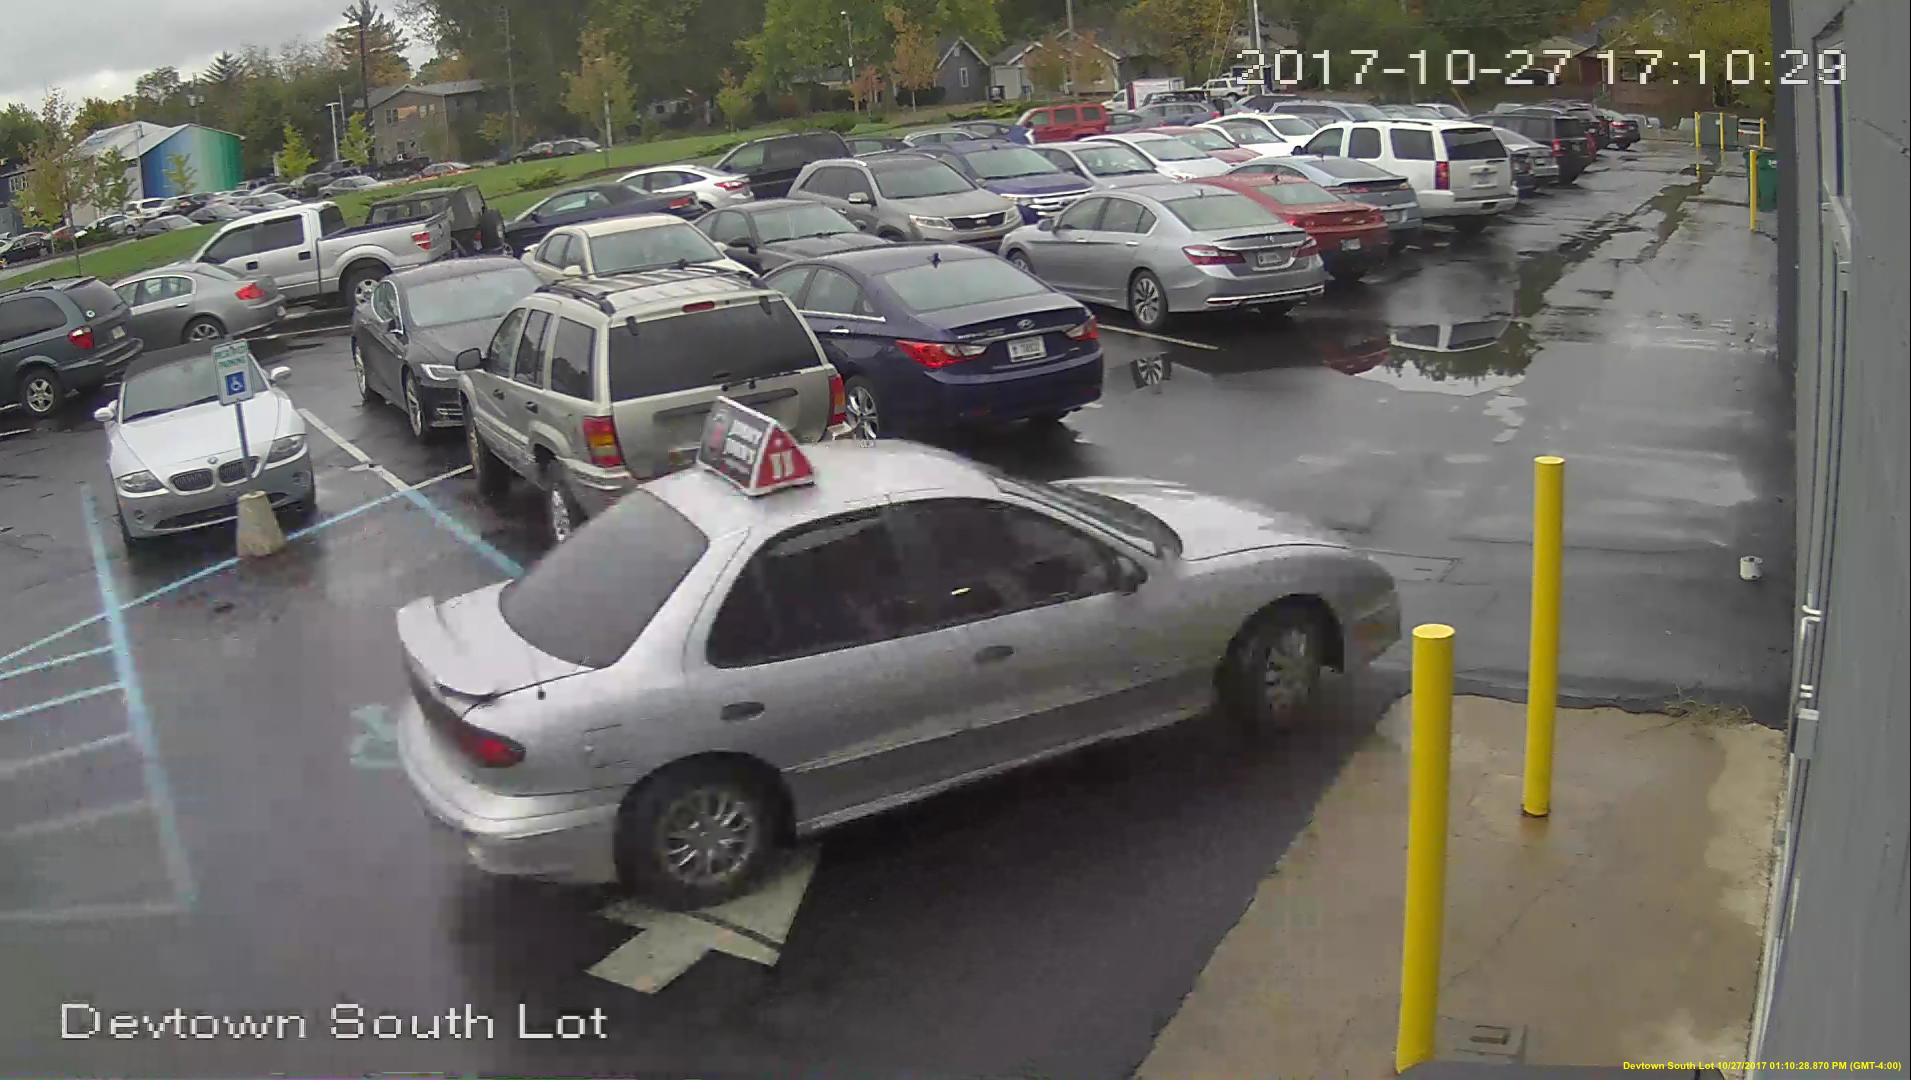jimmy_johns: (701, 398, 822, 497)
